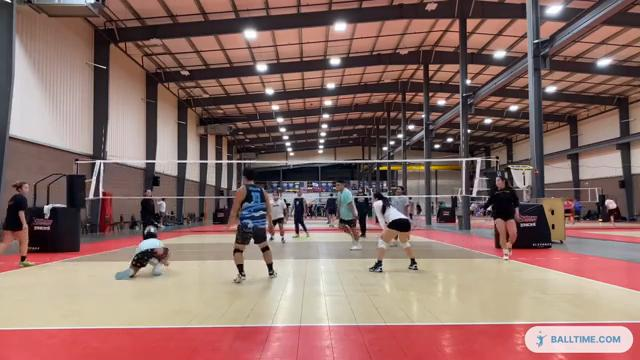difesa: (113, 224, 169, 283)
